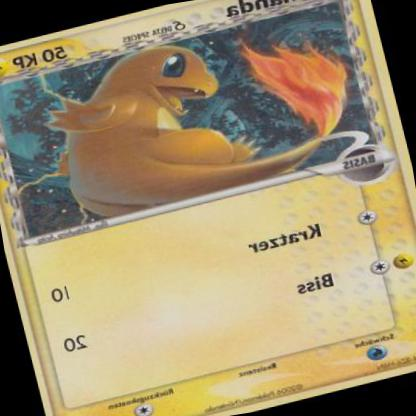Charmander: (1, 1, 416, 416)
